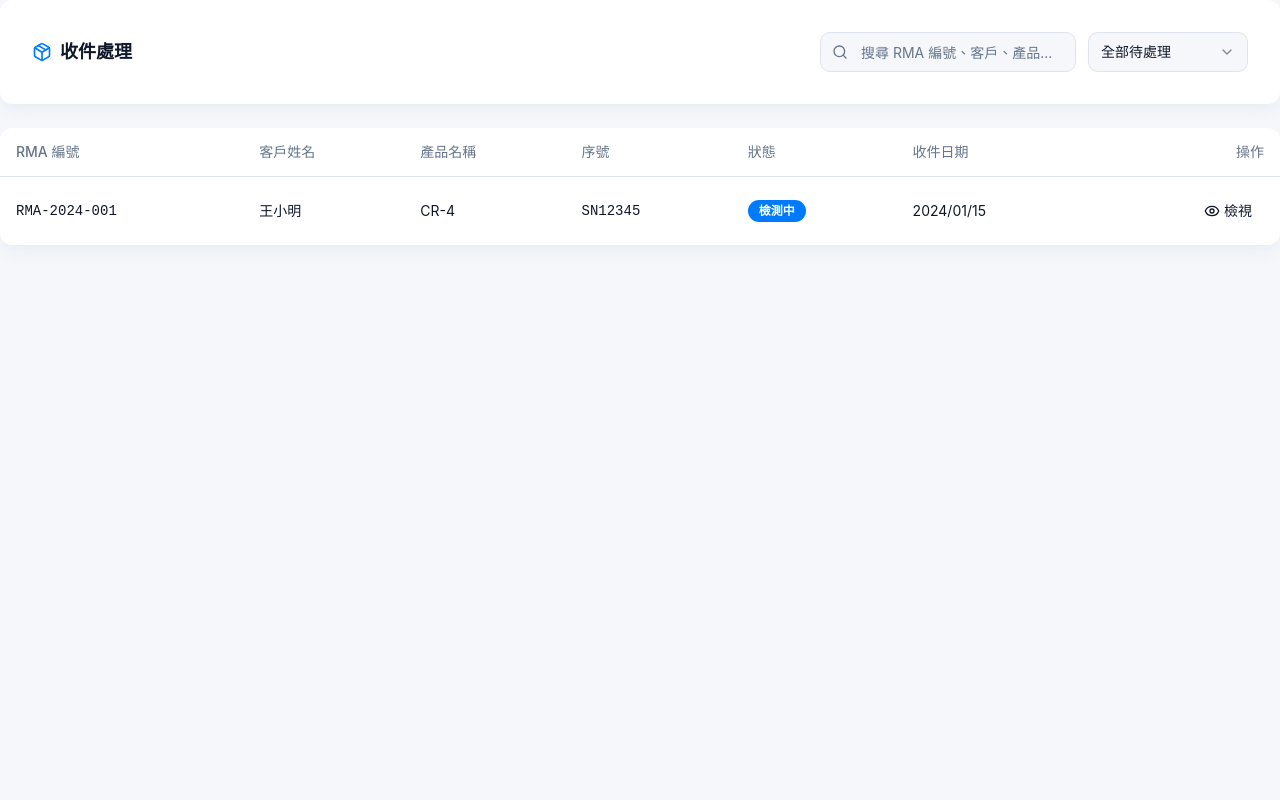
ReceivingTab - Phase 1 診斷欄位 › 選擇「換新」後顯示替換型號和替換序號欄位
Click the button "檢視": (1228, 210) top-left (1192, 192), bottom-right (1264, 228)
(page scrolled)
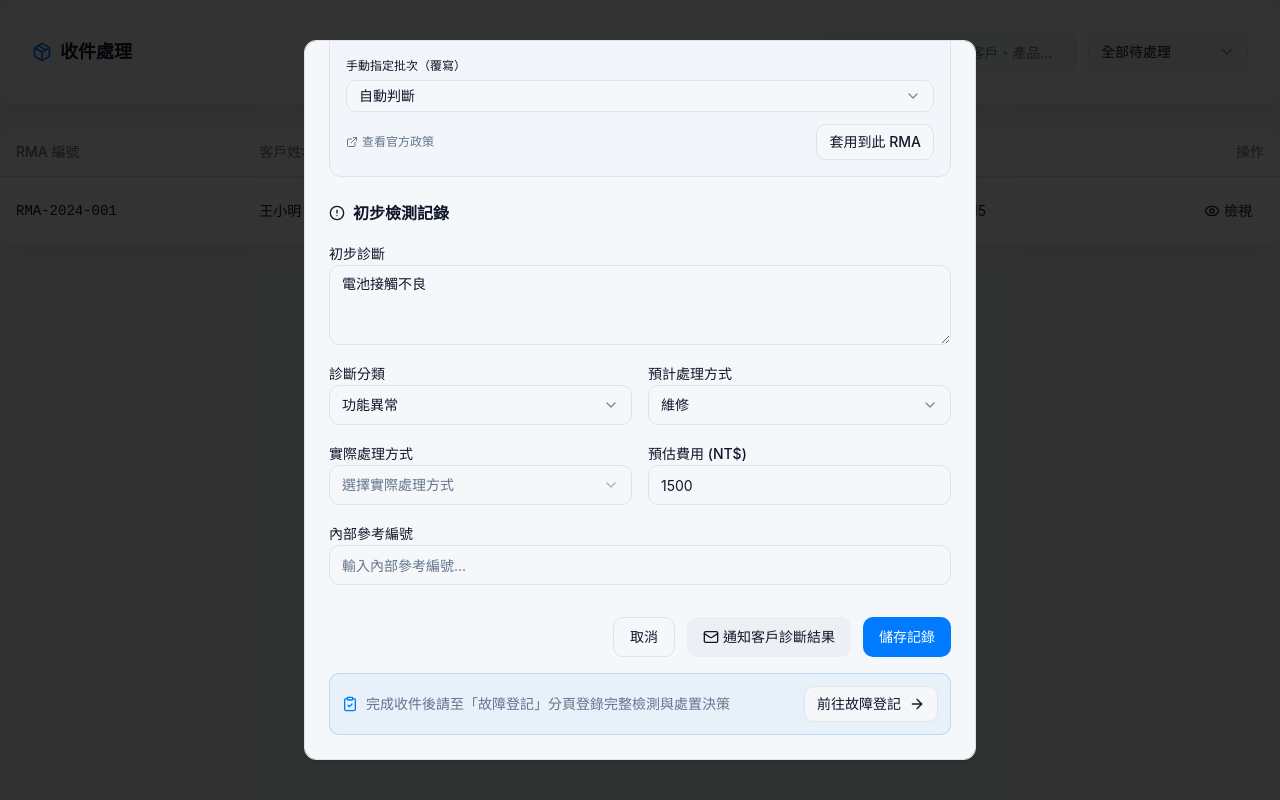
Click the dropdown labelled "實際處理方式": (398, 484) top-left (329, 465), bottom-right (632, 505)
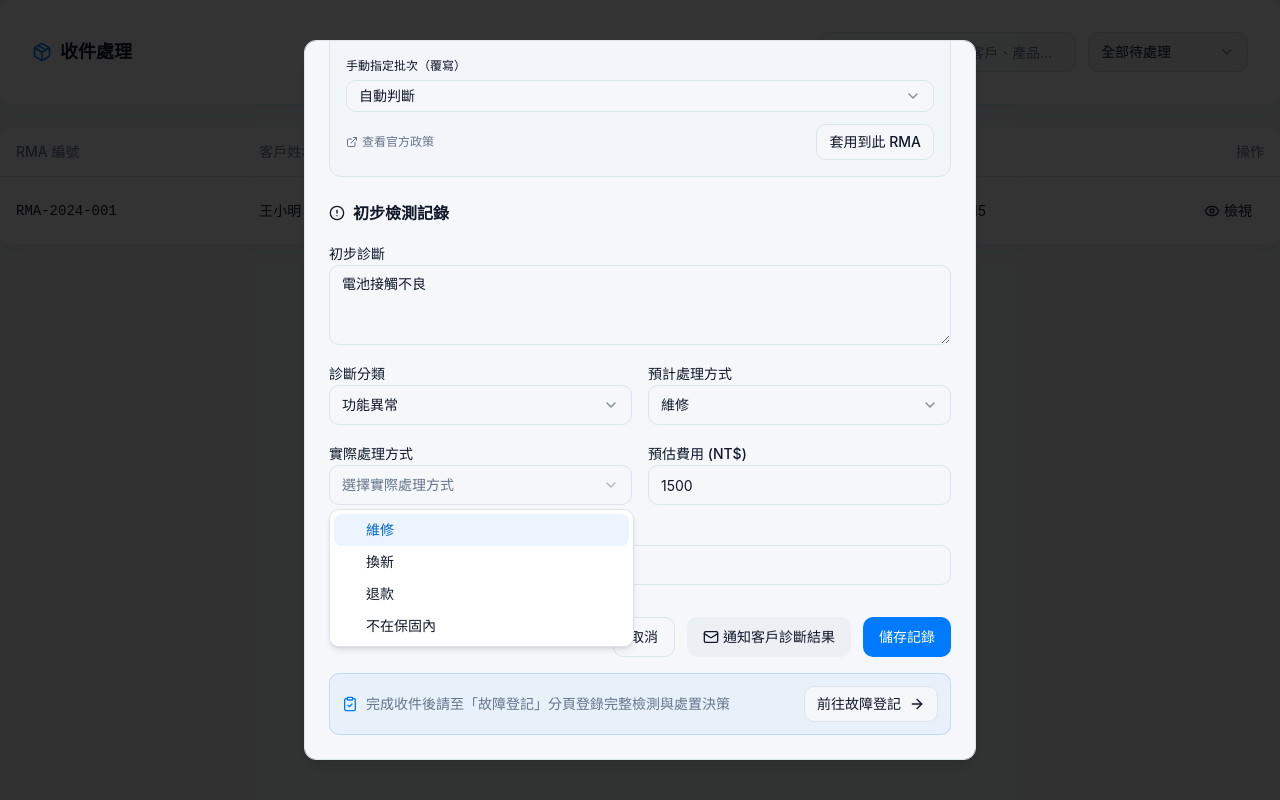
Click the option "換新": (380, 562) top-left (366, 553), bottom-right (394, 570)
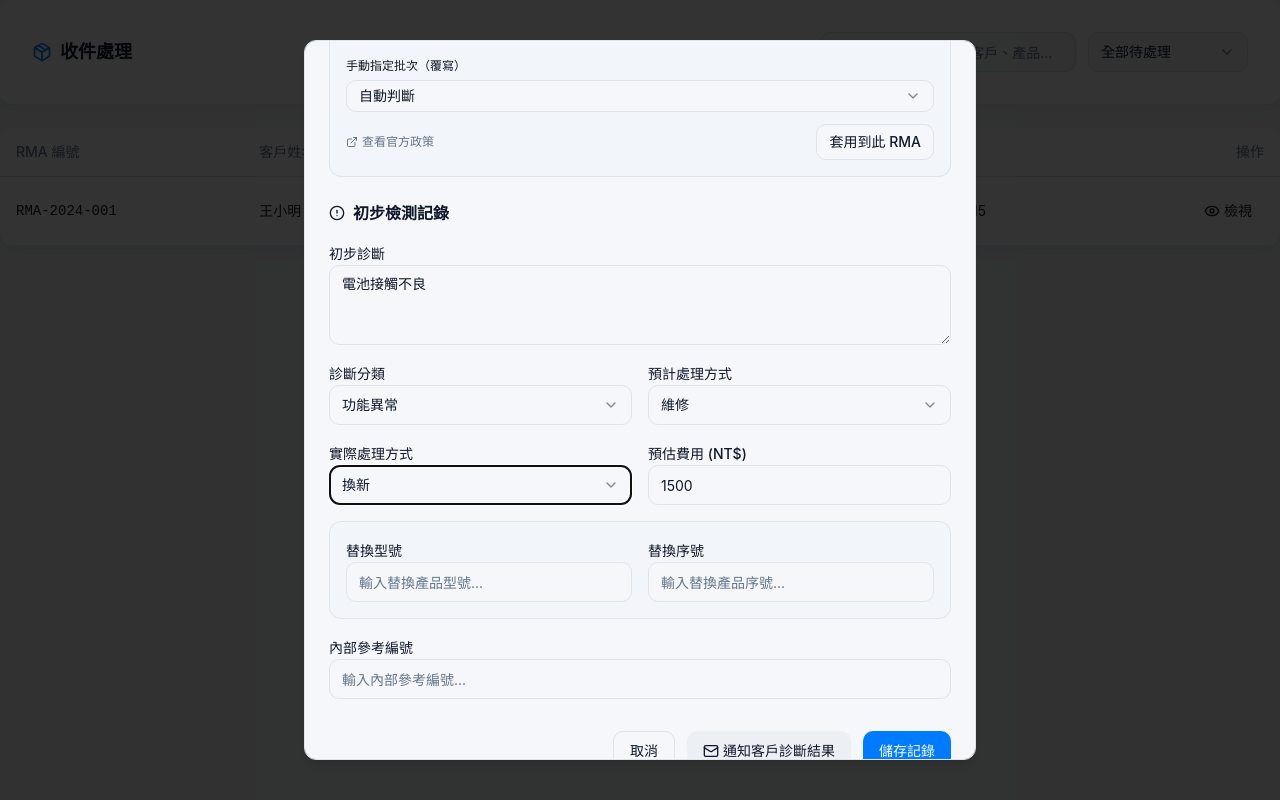
Check: the field labelled "替換型號" is shown, box top-left (346, 562), bottom-right (632, 602)
Check: the field labelled "替換序號" is shown, box top-left (648, 562), bottom-right (934, 602)
